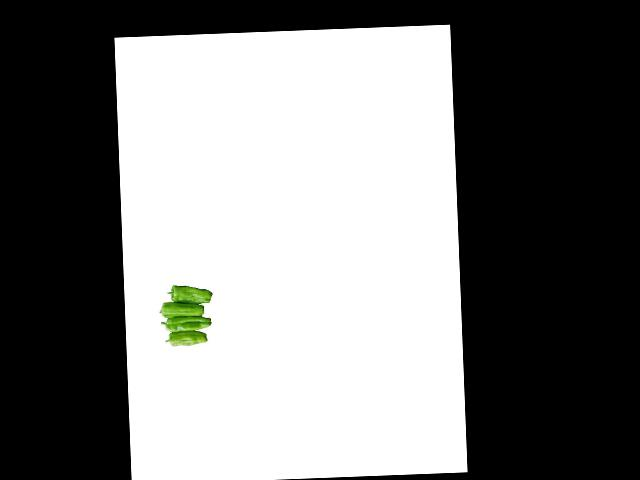bell_pepper: (164, 283, 216, 305)
